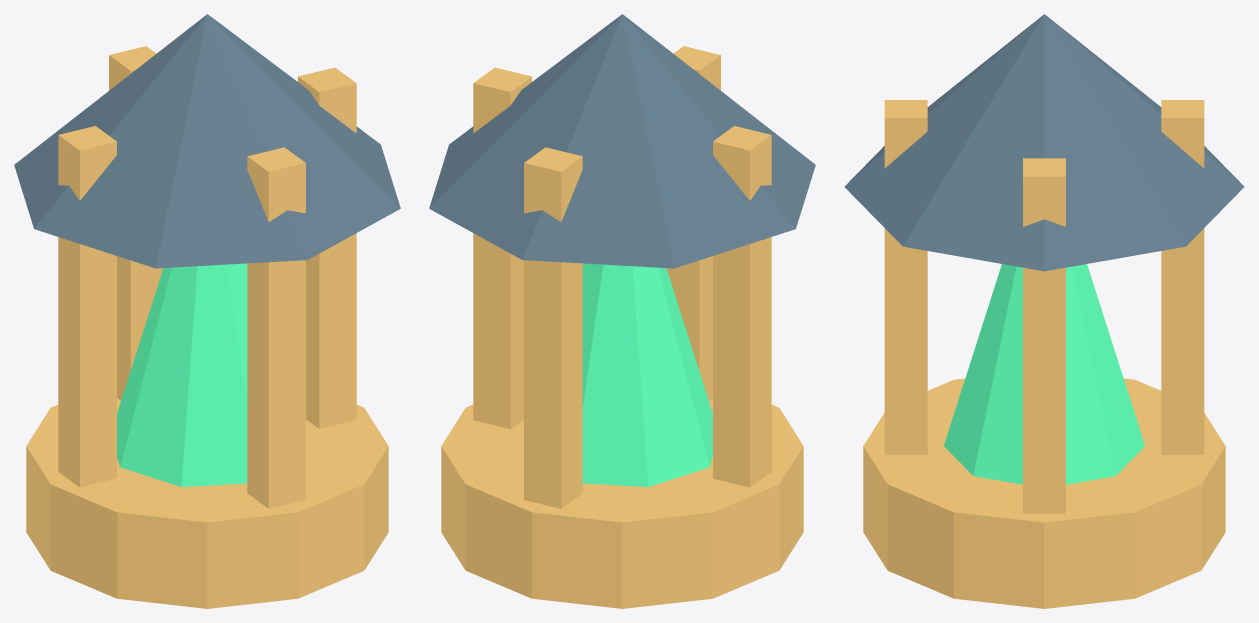
File: lantern.glb
3 views of the same model, side by side, from view 1: azimuth 30°, elevation 25°; view 2: azimuth 150°, elevation 25°; view 3: azimuth 270°, elevation 25° (orthographic).
Parts seen in each view (by area): view 1: lantern; view 2: lantern; view 3: lantern.
Part boxes in pixels (x1,y1,x2,y2): lantern: (14, 14, 400, 608); lantern: (429, 14, 815, 608); lantern: (844, 14, 1244, 608).
Size of the model in its own units: 0.84 by 1.2 by 0.84.
